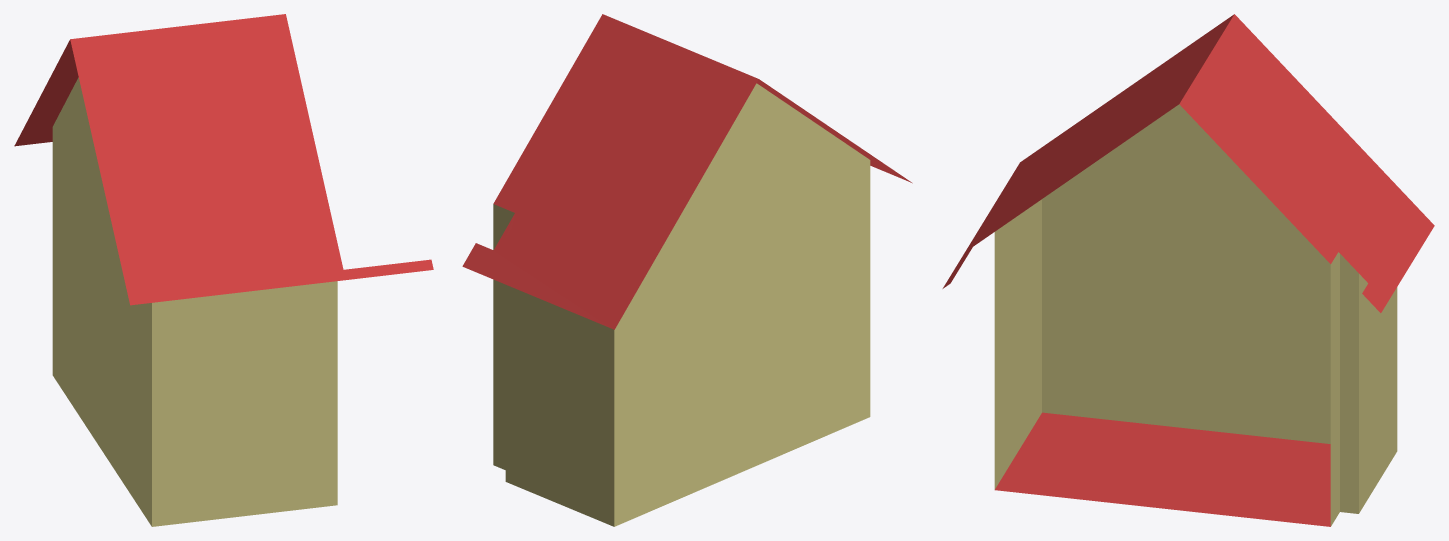
3 renders of one model, left to right at view 1: azimuth 30°, elevation 25°; view 2: azimuth 150°, elevation 25°; view 3: azimuth 270°, elevation 25°, orthographic. The views are drawn at different scales.
Size of the model in its own units: 10.24 by 16 by 14.56.
